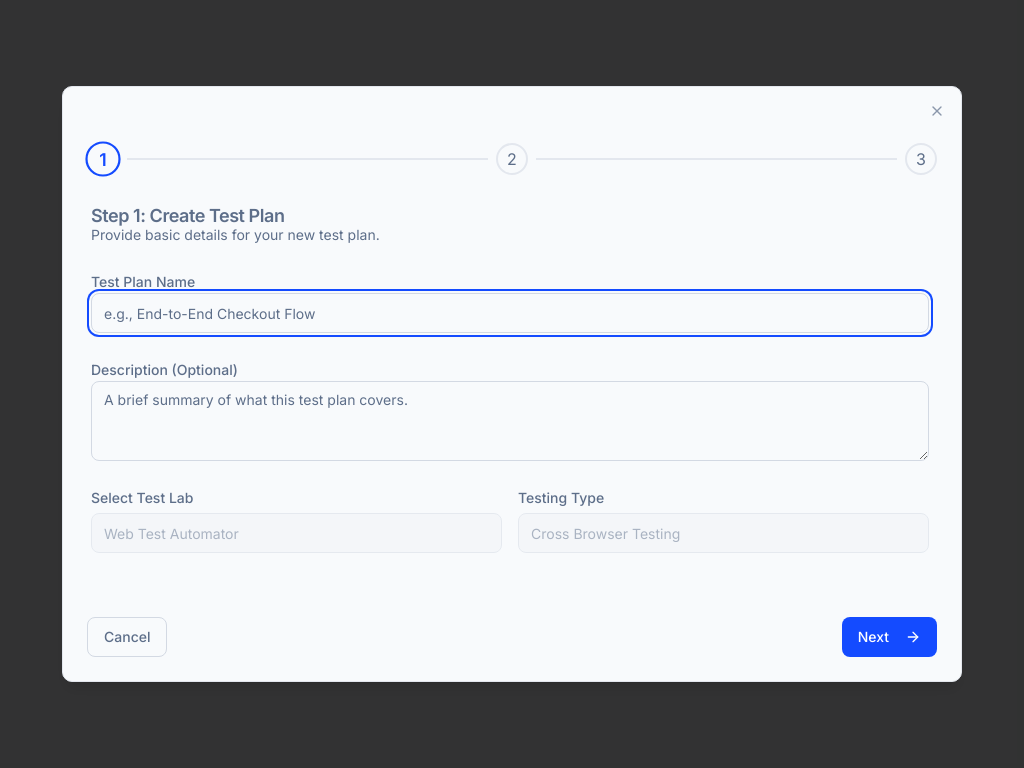
Scenario: CreateTestPlanWizard › step 2 › refuses a machine without an operating system
Type "Nightly" into the field labelled "Test Plan Name".
click(510, 313); type("Nightly")  # box [91,293,929,333]
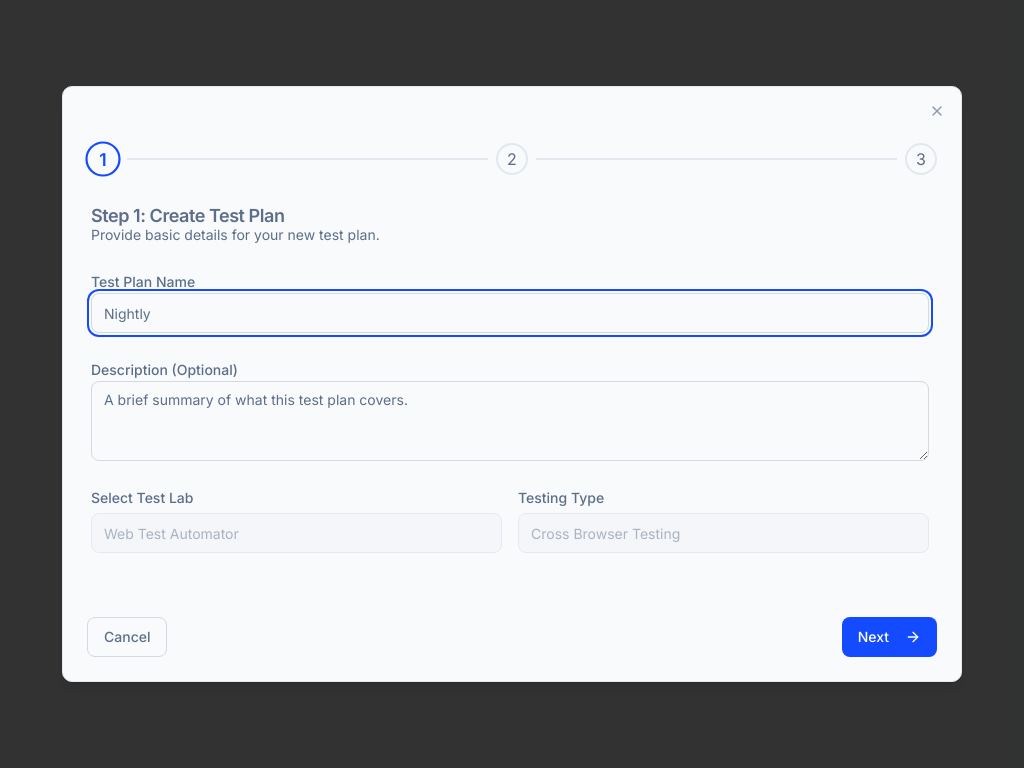
Click the button "Next".
click(889, 637)  # box [842,617,937,657]
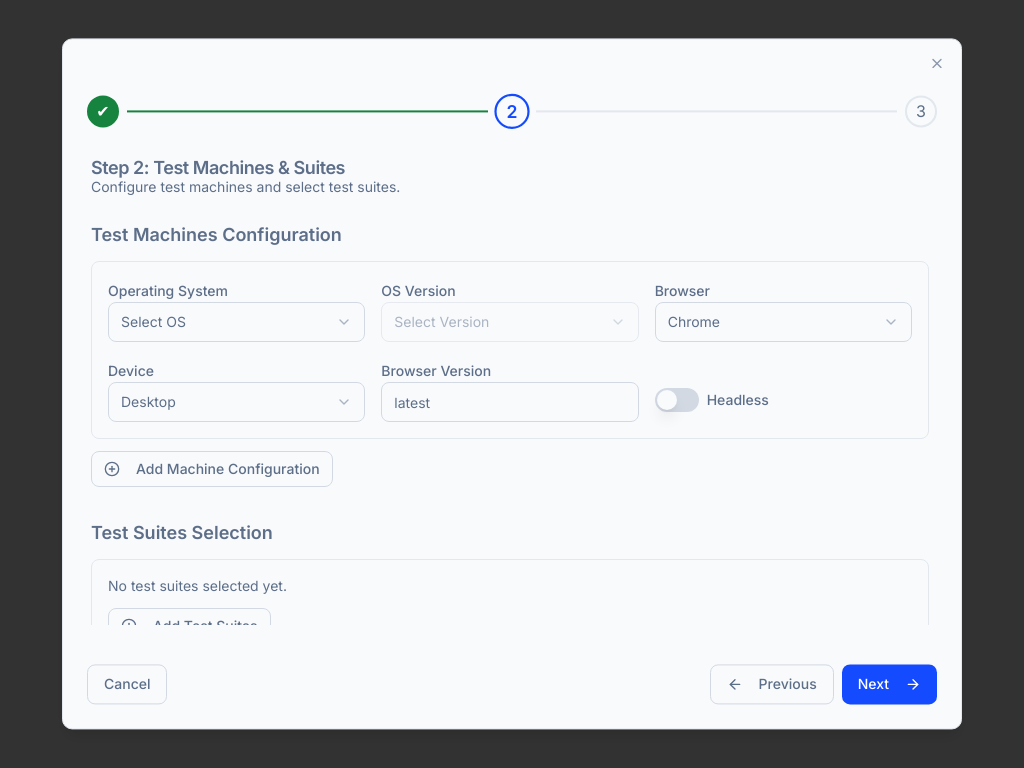
Click the button "Add Machine Configuration".
click(212, 469)  # box [91,451,333,487]
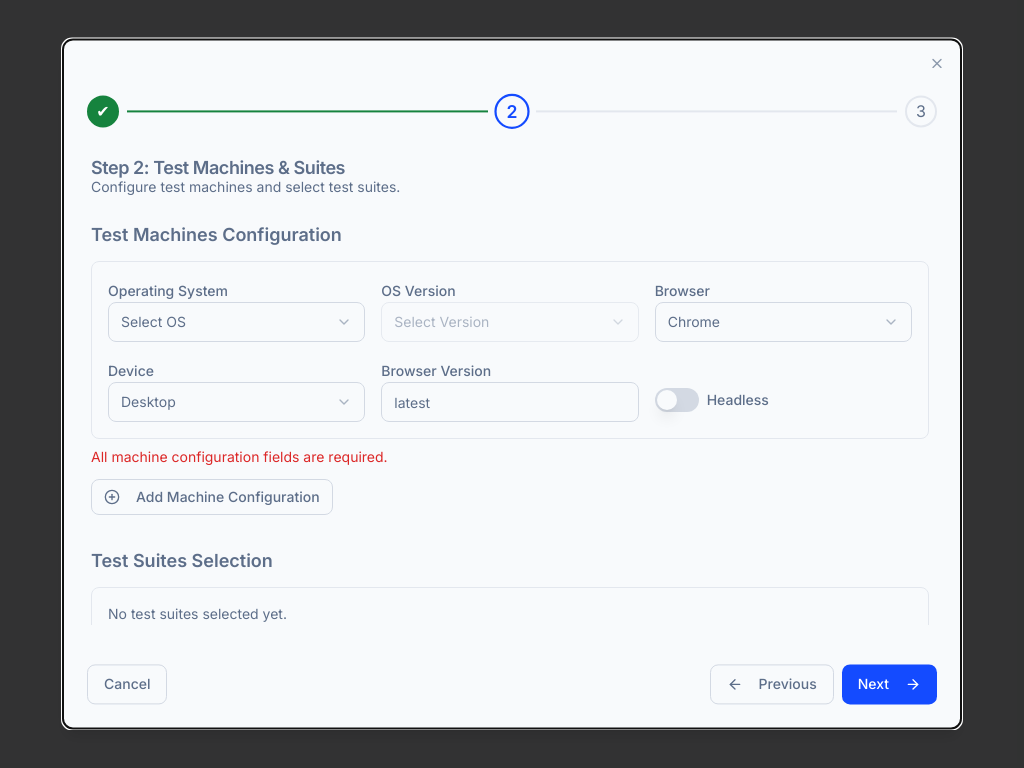
expect the text "All machine configuration fields are required." is shown: met, box [91,448,388,465]
